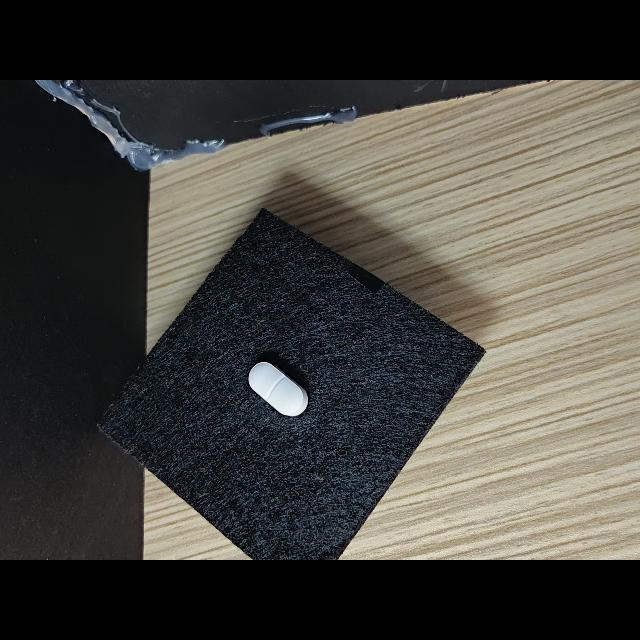Intact Pill: (249, 362, 308, 416)
